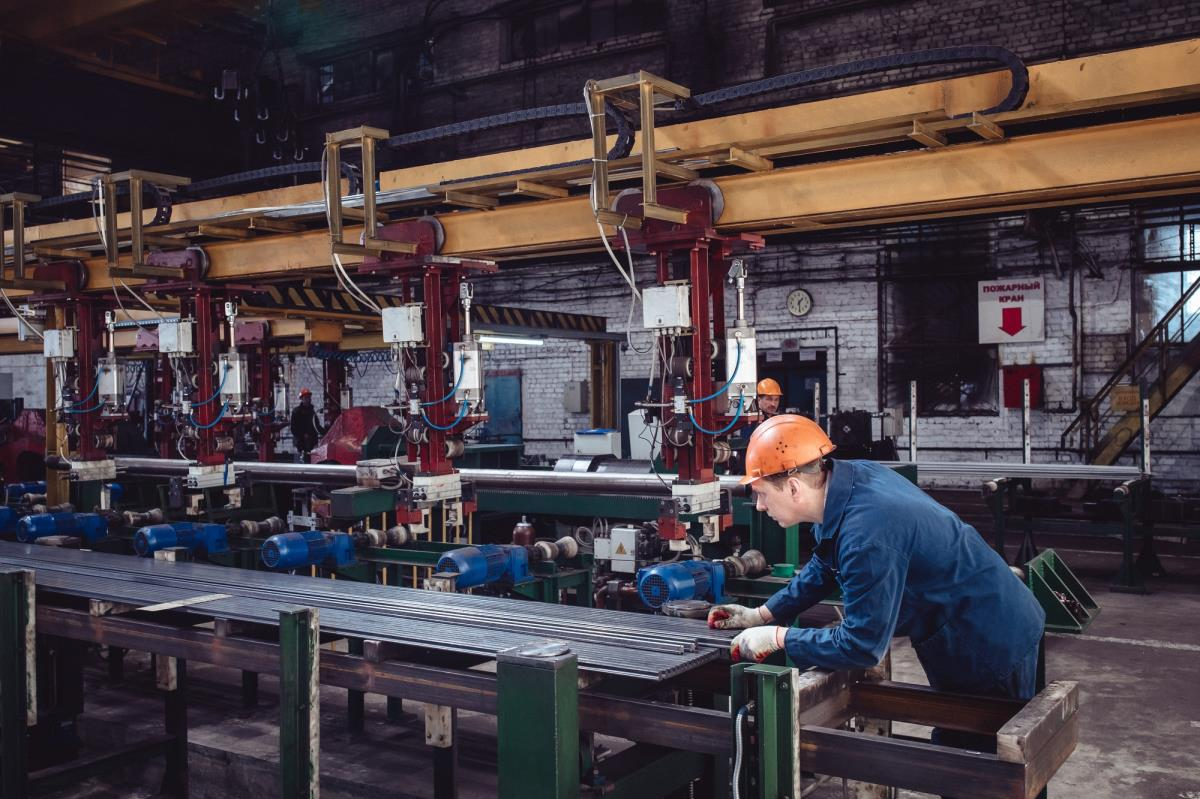person: (708, 415, 1051, 799), (754, 378, 781, 416)
